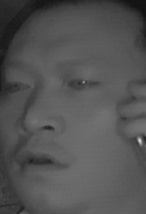eye: (65, 71, 99, 95), (3, 76, 31, 96)
mouth: (16, 141, 73, 181)
